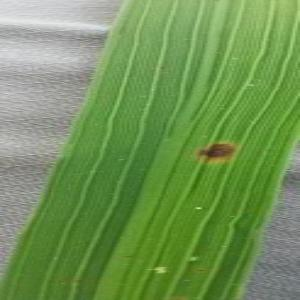Brown_Spot: (191, 134, 243, 169)
